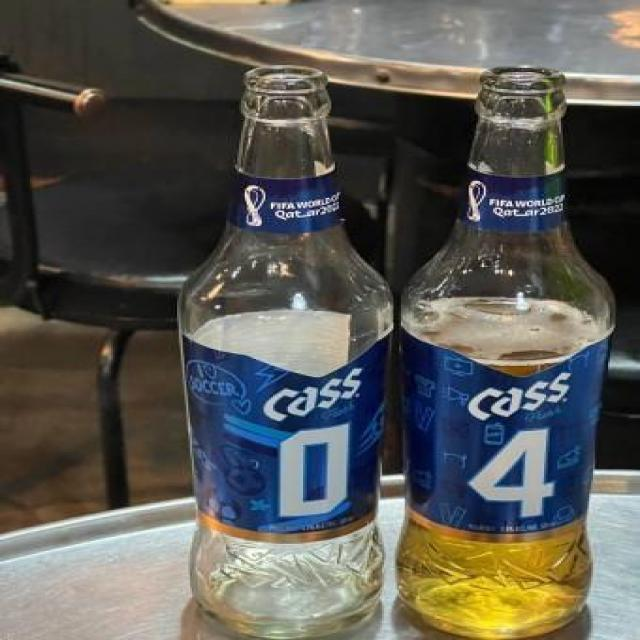beer-bottle: (175, 63, 395, 640), (406, 58, 600, 640)
